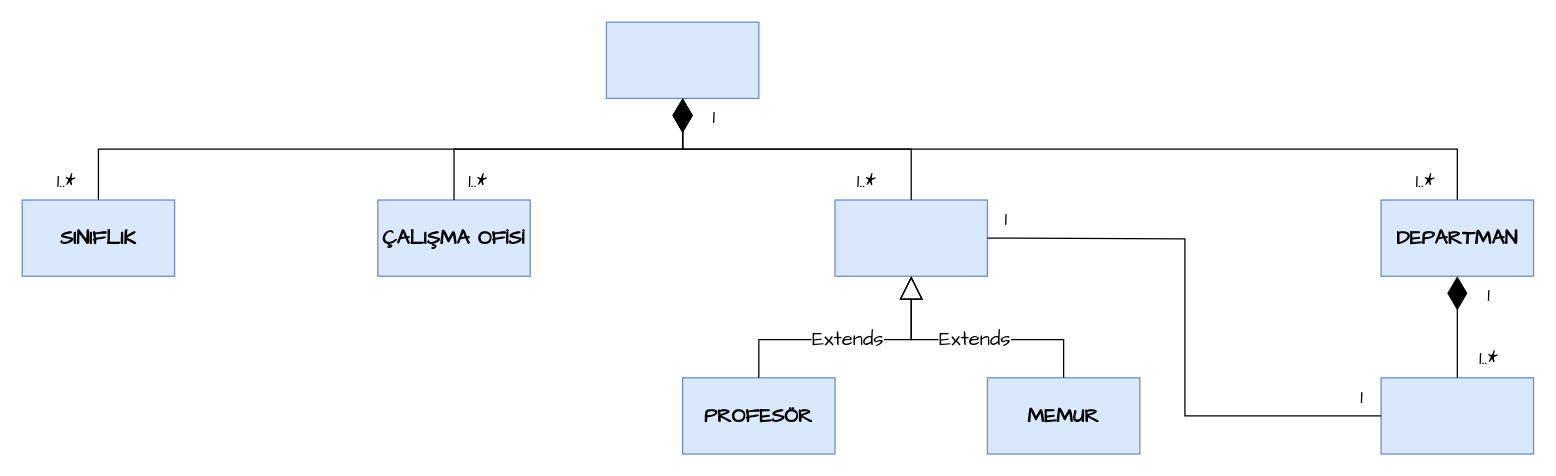
The diagram is 1556 pixels wide and 476 high, and some of its shapes have lost their labels. The centre of each missing label's shape, as x and y in pixels:
OFİS: pixel 1457 415
ÇALIŞANLAR: pixel 910 237
ÜNİVERSİTE: pixel 682 59
